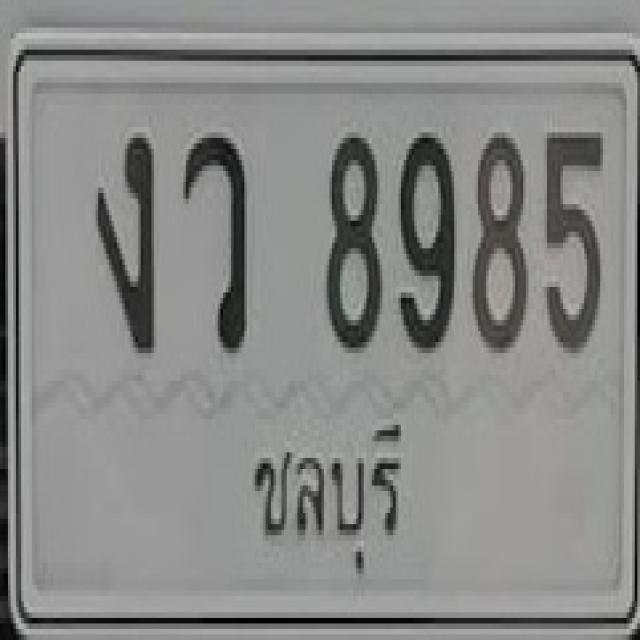license_plate: (5, 27, 639, 640)
